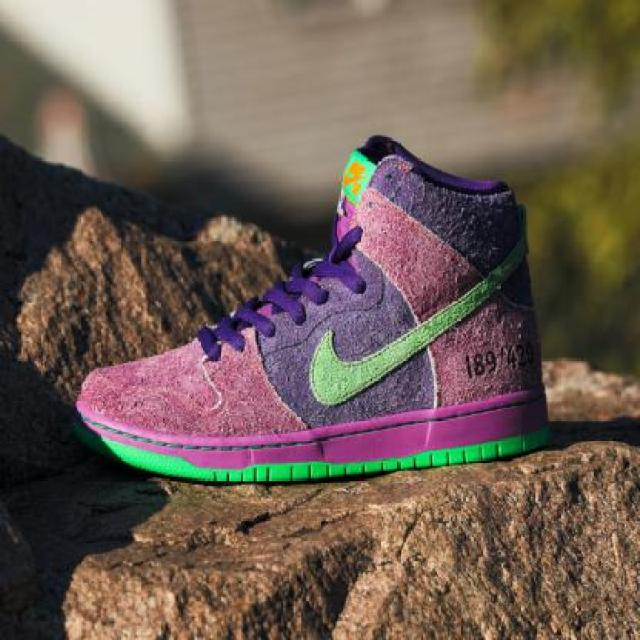shoe: (73, 133, 550, 482)
